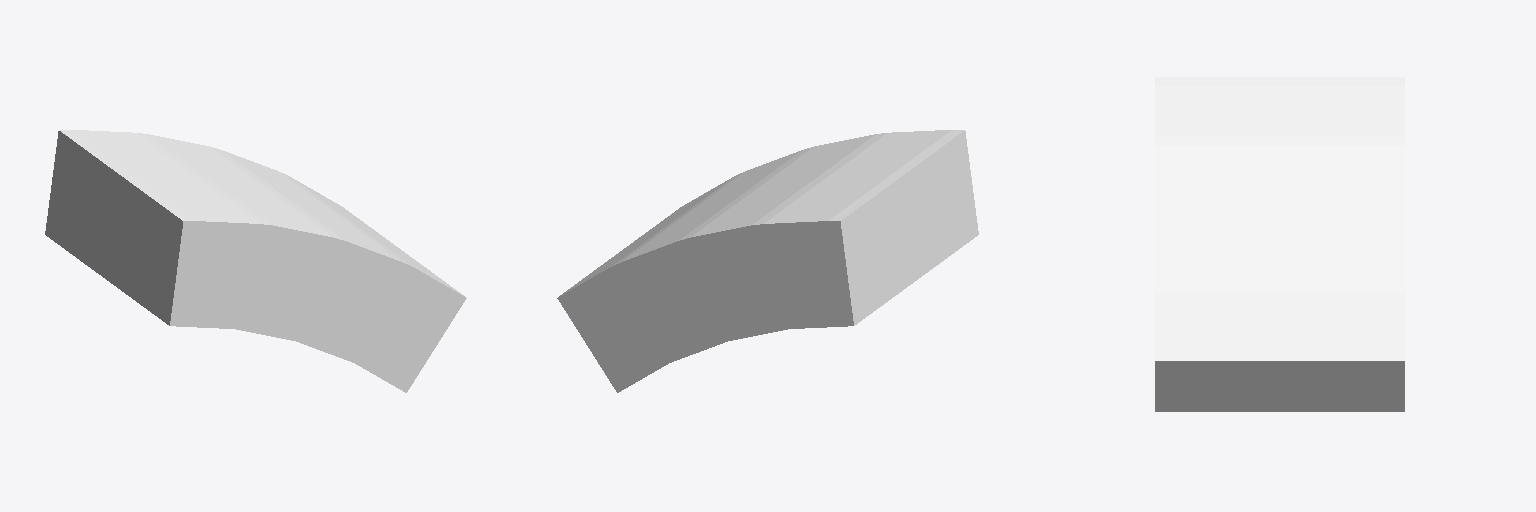
The model's file is smooth_segmental_arch_3.obj.
3 views of the same model, side by side, from view 1: azimuth 30°, elevation 25°; view 2: azimuth 150°, elevation 25°; view 3: azimuth 270°, elevation 25° (orthographic).
Visible parts, largest first — view 1: cube.006; view 2: cube.006; view 3: cube.006.
Part boxes in pixels (bbox=[...]): cube.006: bbox=[45, 130, 466, 392]; cube.006: bbox=[557, 130, 978, 392]; cube.006: bbox=[1155, 77, 1404, 411].
Bounding box in the file's own units: 1.39 × 1.01 × 1.01.